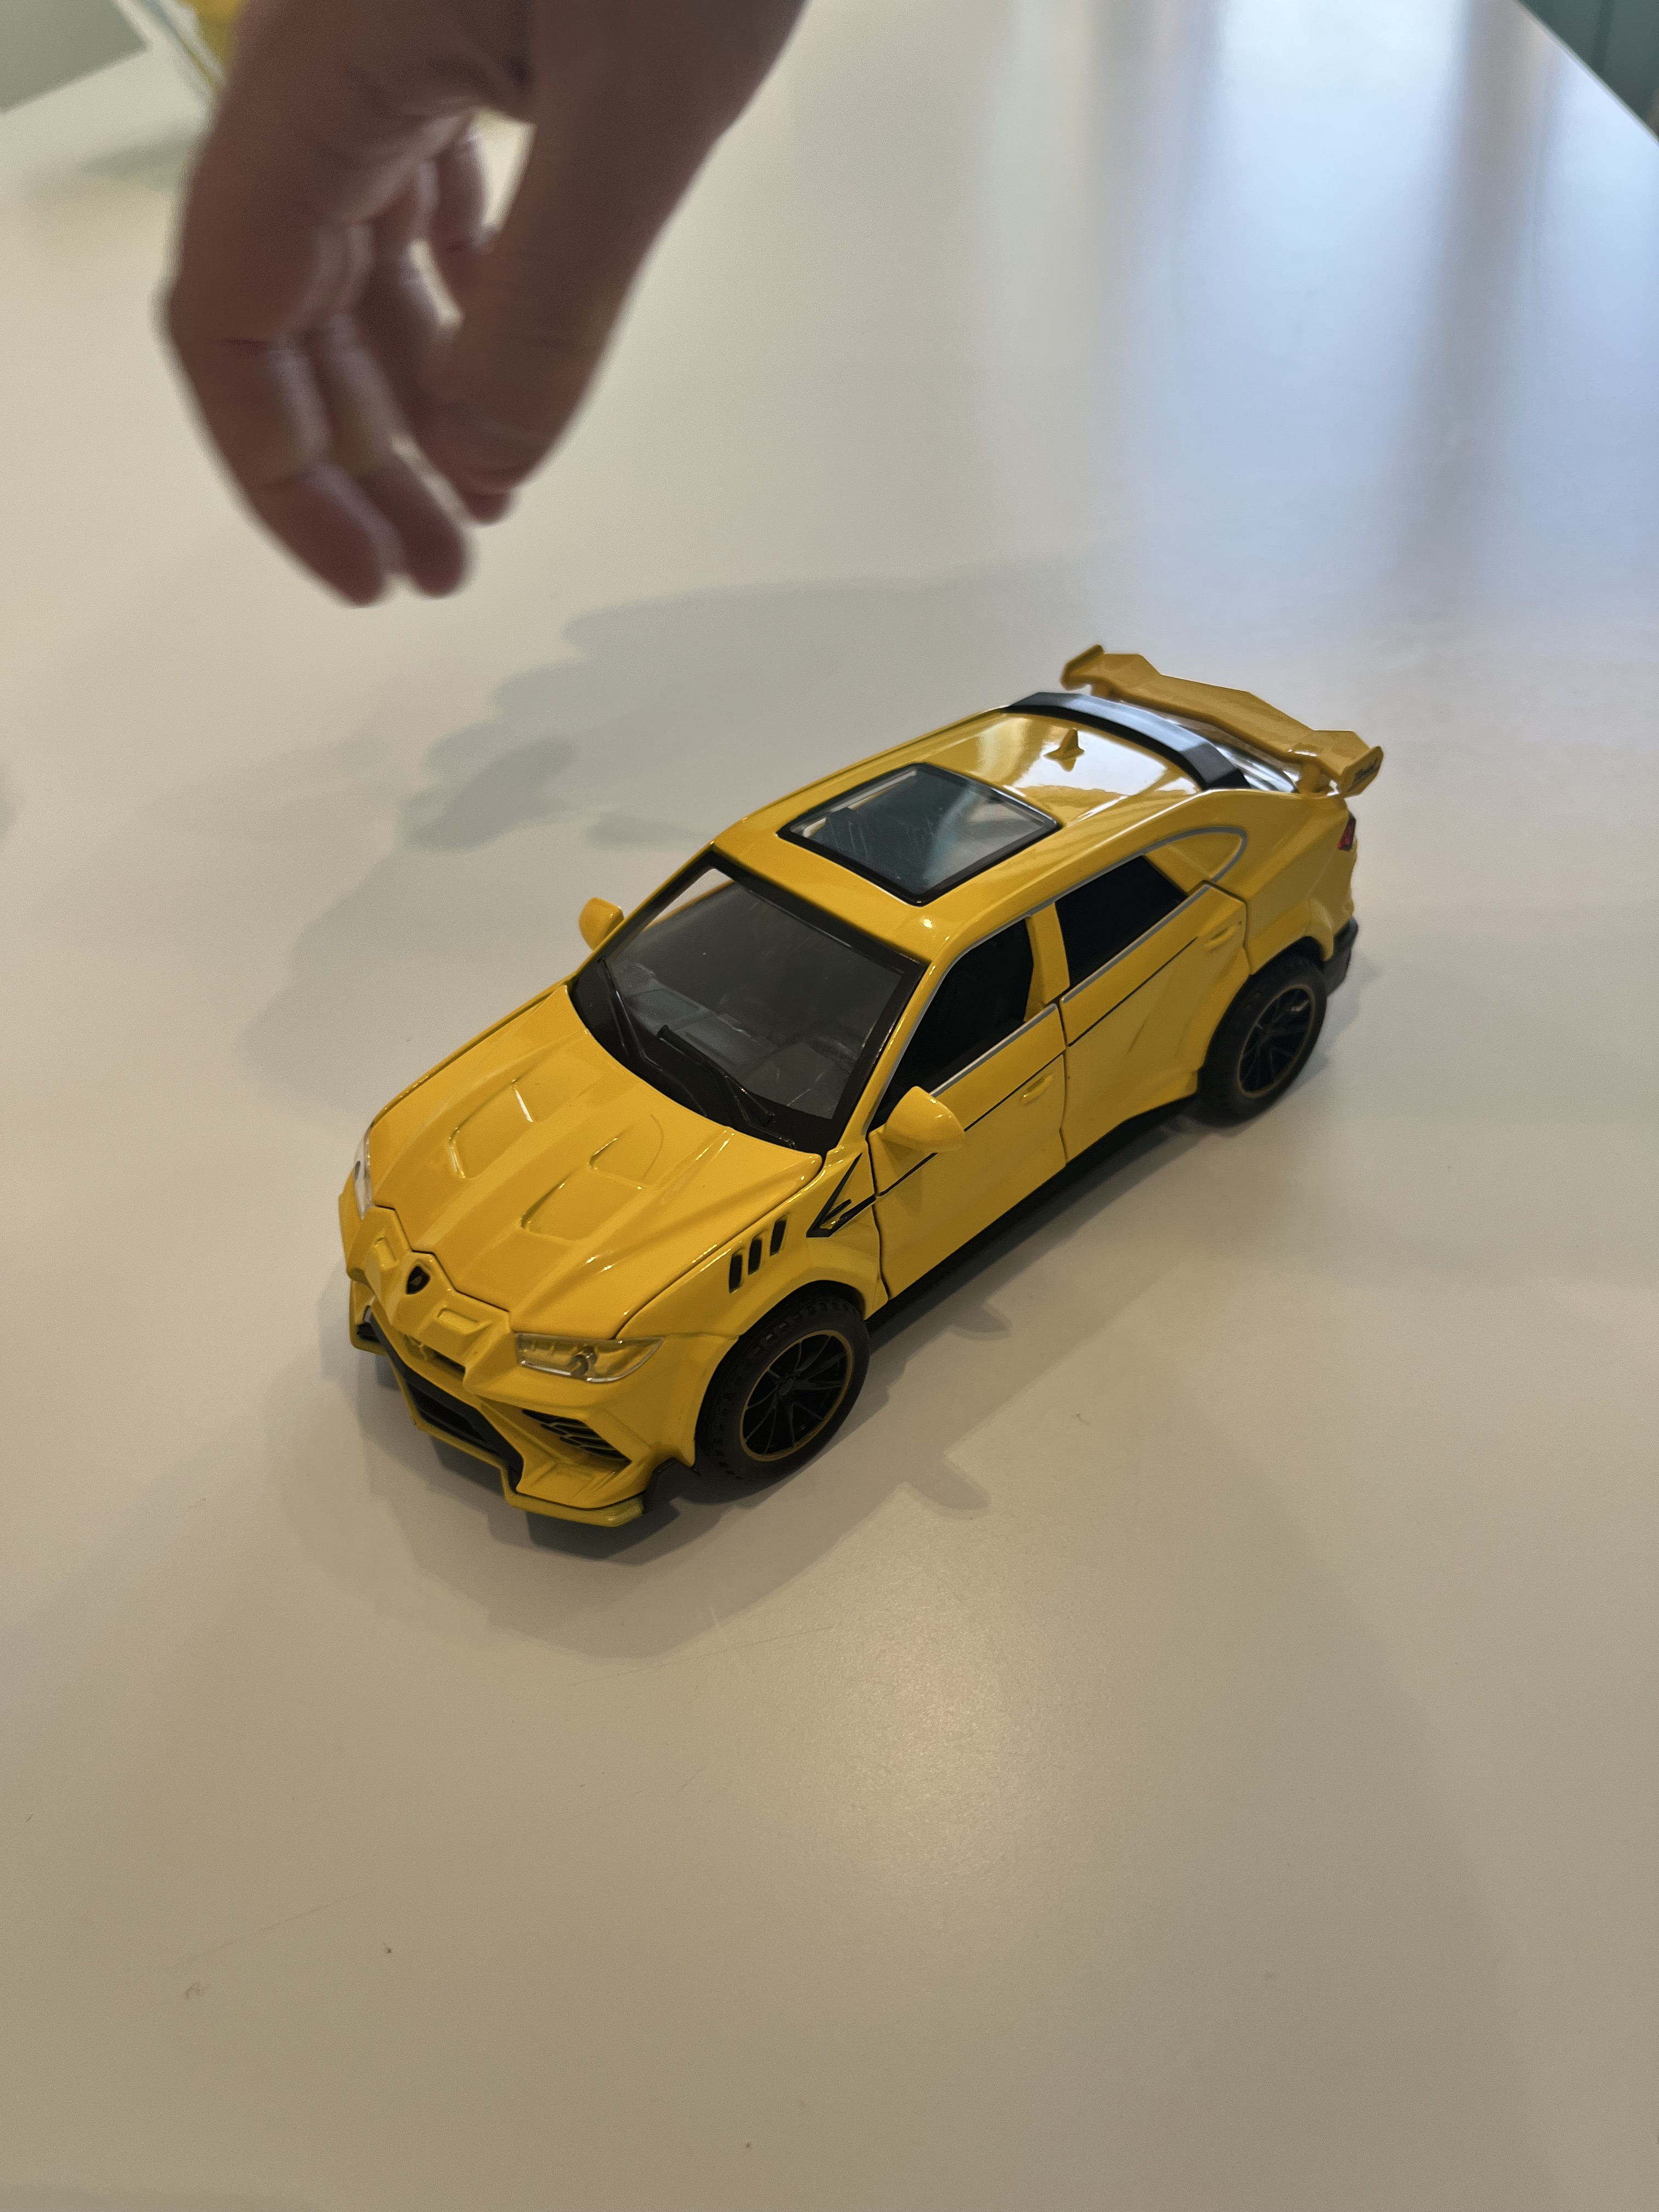lambo: (301, 634, 1406, 1545)
